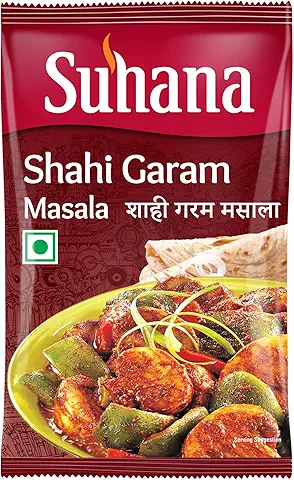Garamasala: (1, 4, 294, 475)
